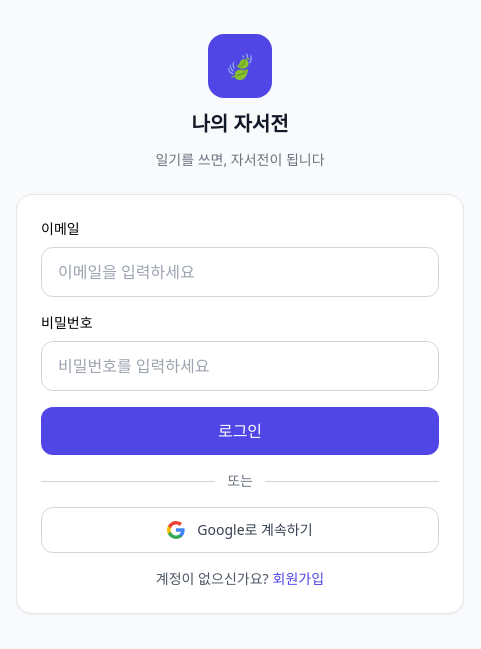
Test case: LoginPage (DLD-400 리디자인) › 기존 data-testid 유지 › should render data-testid error-message when login fails
Type "bad@example.com" into the field with test id "email-input".
click(240, 272); type("bad@example.com")  # box x1=41 y1=247 x2=439 y2=297
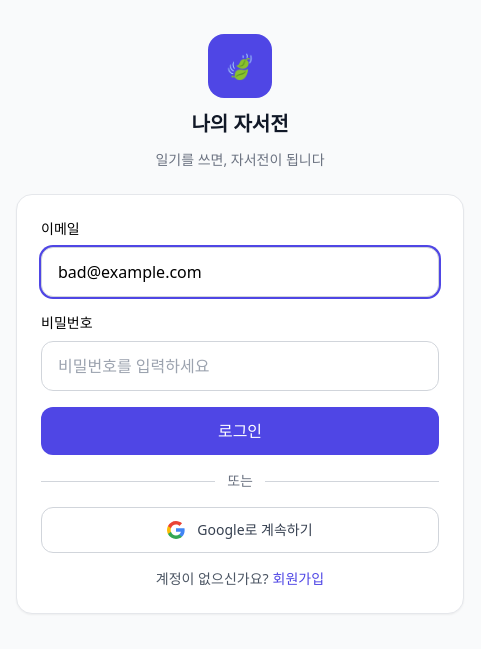
Type "wrongpassword" into the password field with test id "password-input".
click(240, 366); type("wrongpassword")  # box x1=41 y1=341 x2=439 y2=391
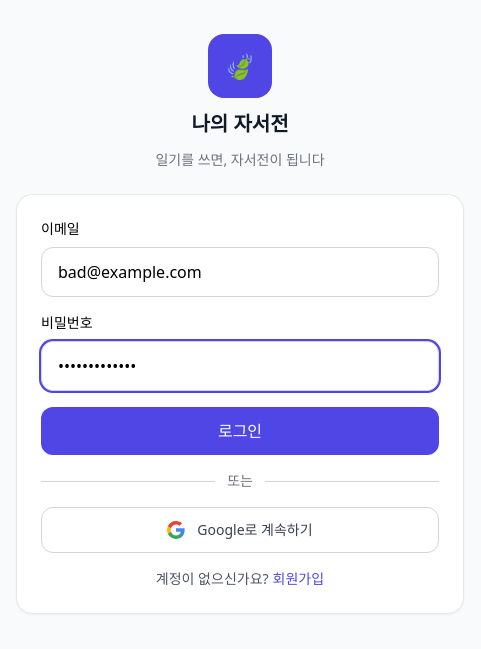
Click the button with test id "submit-button".
click(240, 431)  # box x1=41 y1=407 x2=439 y2=455
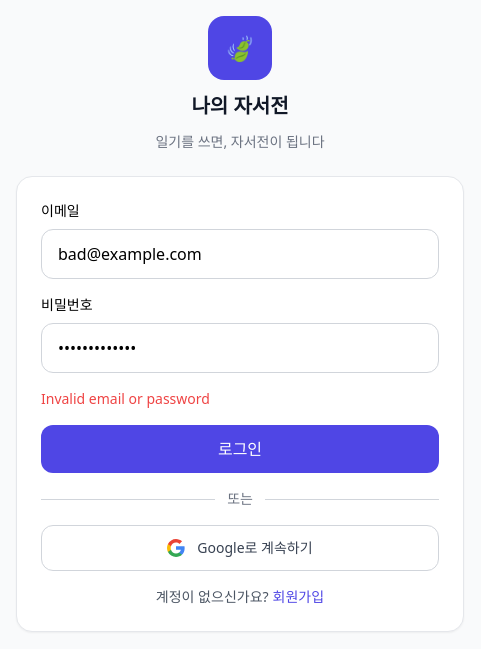
Now the message "Invalid email or password" is shown, box x1=41 y1=389 x2=210 y2=408
